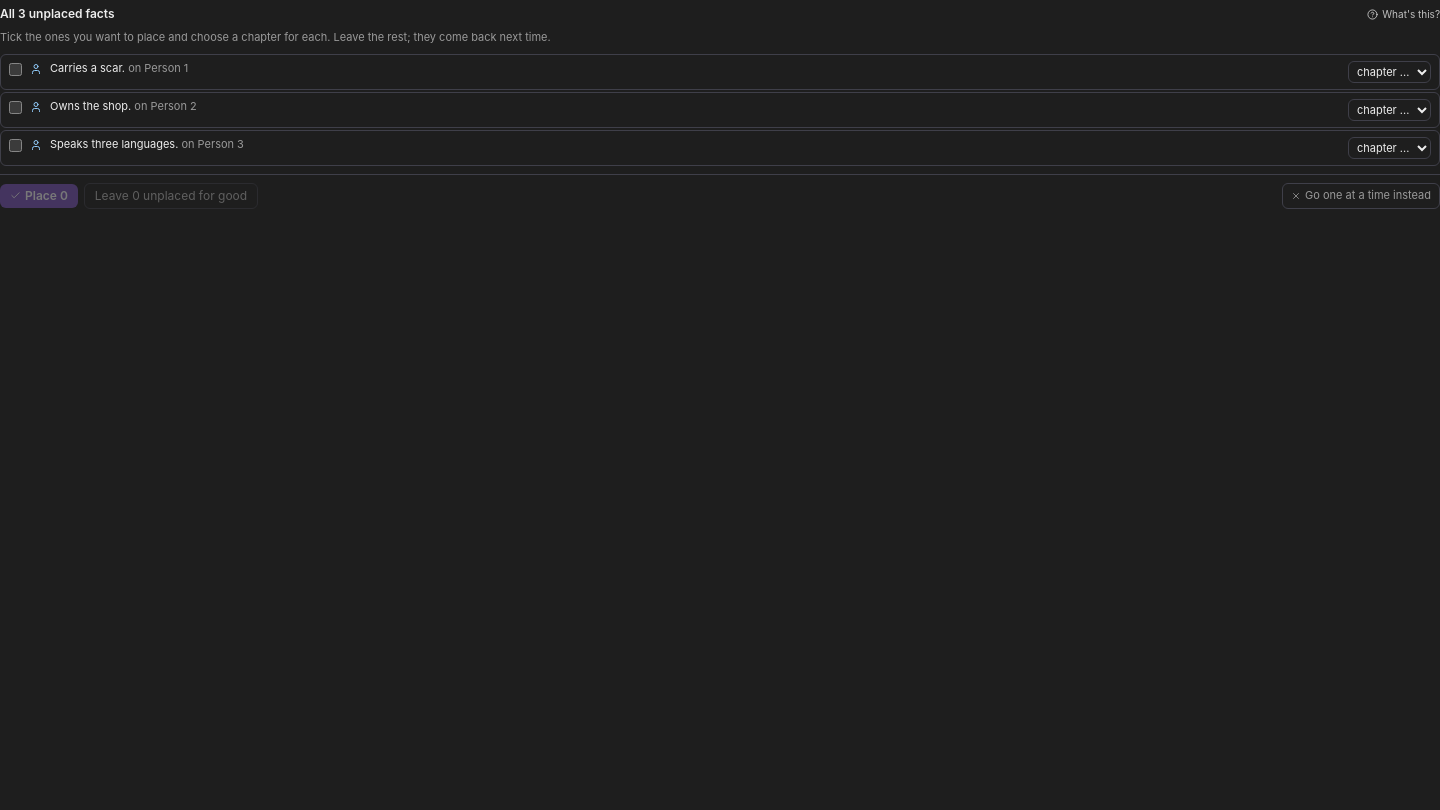
Test case: the unplaced list › reports what is left after a partial pass rather than closing
Select "The Raid" in the dropdown named "Chapter for Carries a scar." at (1390, 72), box [1348,61,1431,83]
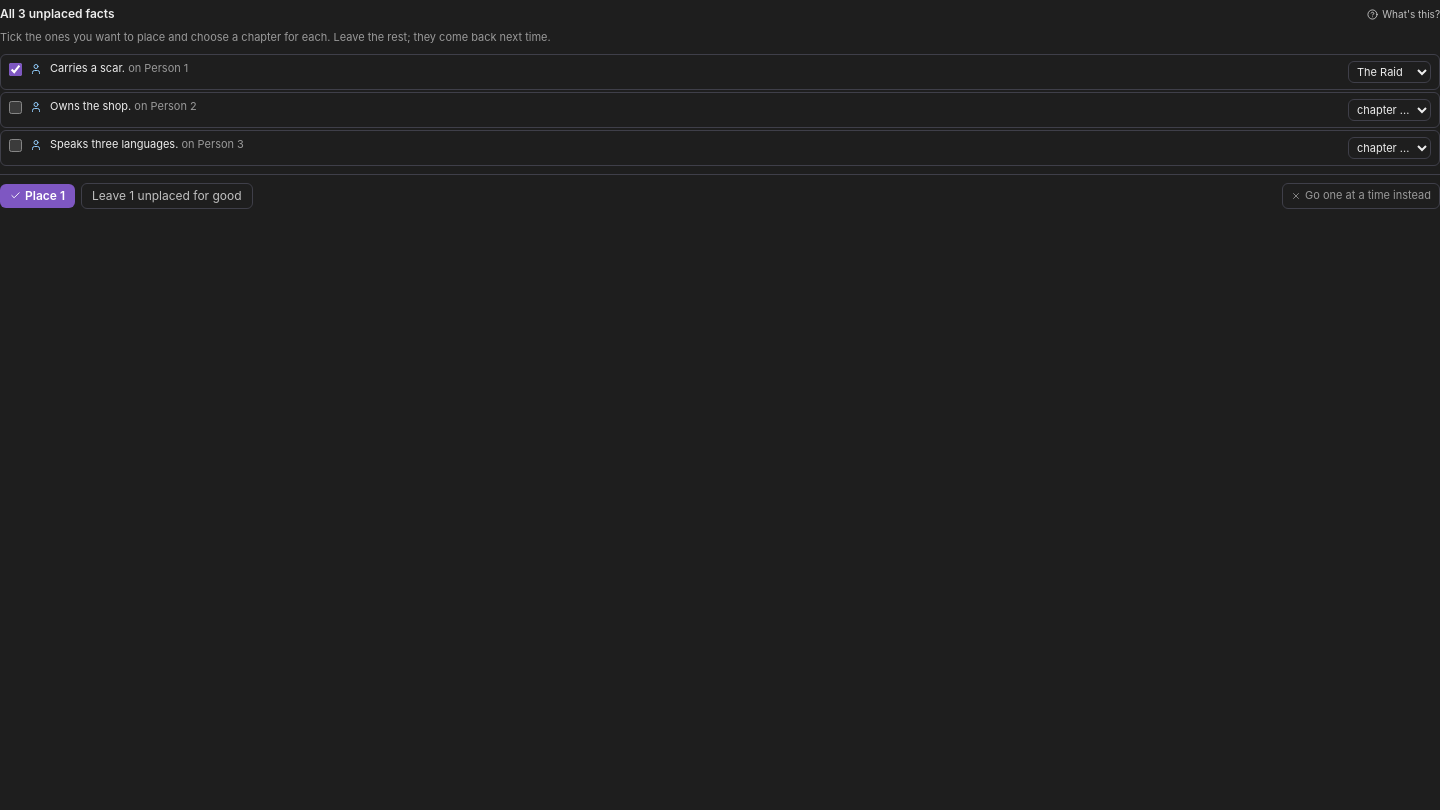
Click the button with test id "sweep-place" at (38, 196), box [0,184,75,208]
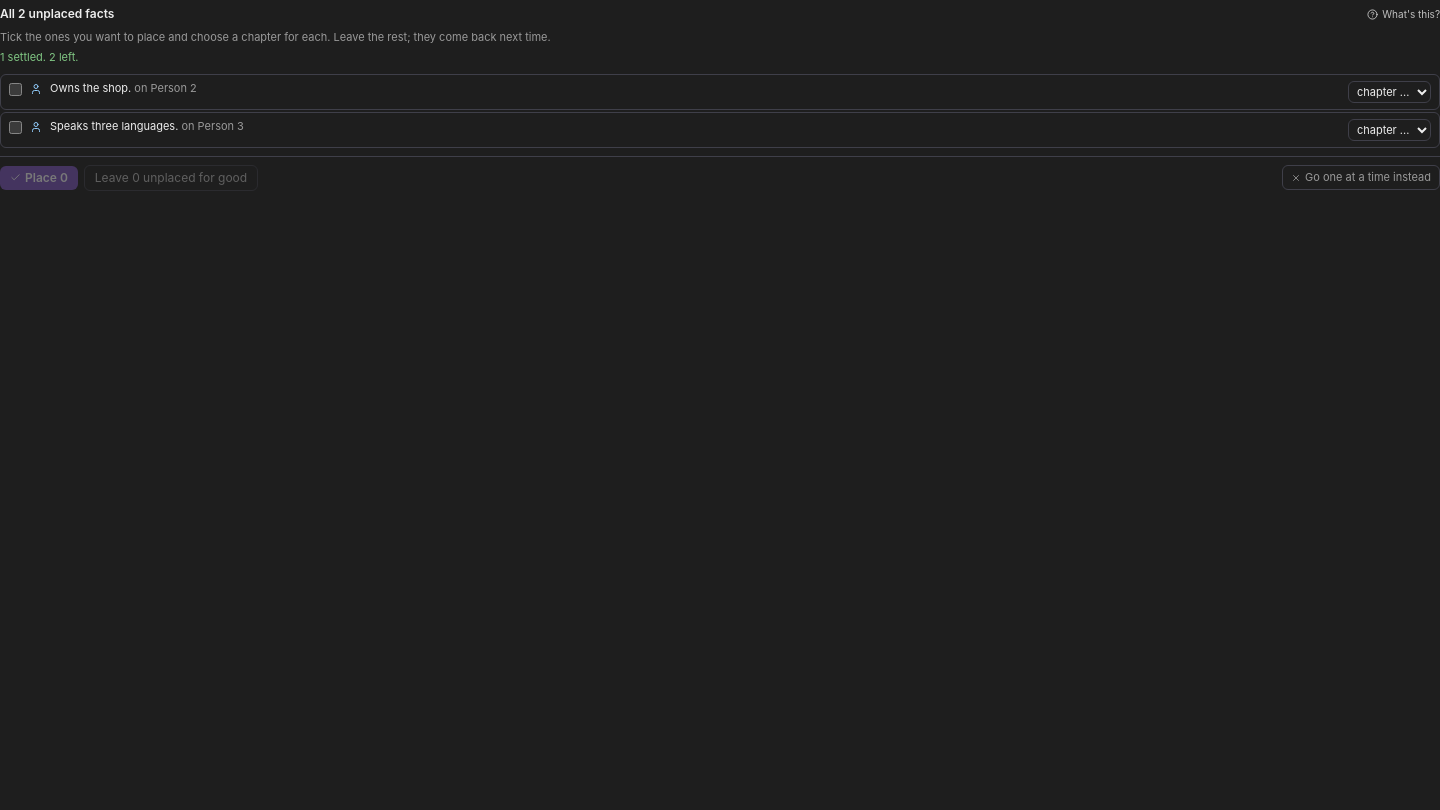
Expected: the text with test id "sweep-done" shows "1 settled", [0,50,78,64]
